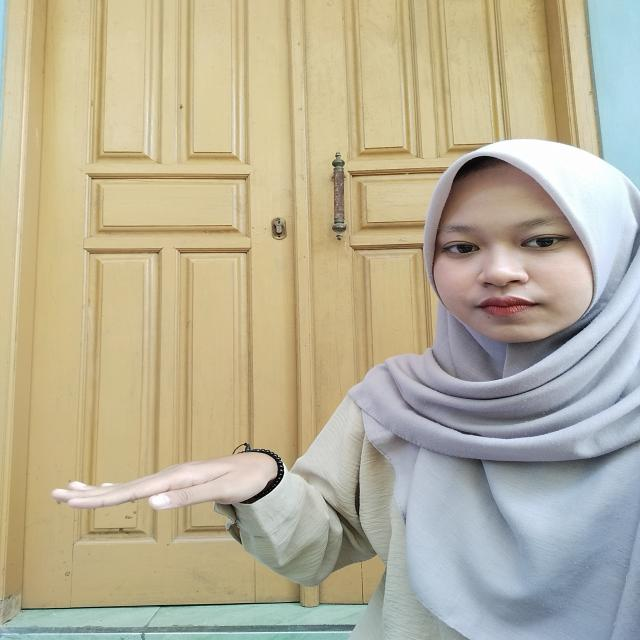adik: (37, 443, 293, 522)
